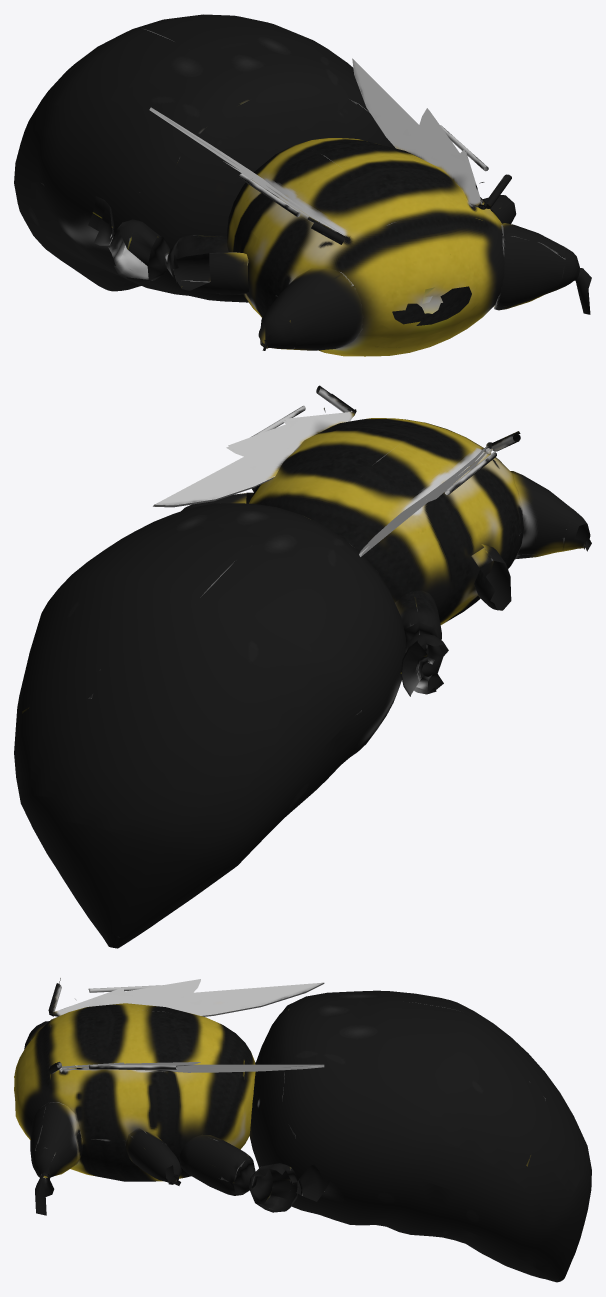
The model's file is WaspBody.fbx.
The picture shows the model from 3 angles, top to bottom: view 1: azimuth 30°, elevation 25°; view 2: azimuth 150°, elevation 25°; view 3: azimuth 270°, elevation 25°; orthographic projection. The views are drawn at different scales.
Visible parts, largest first — view 1: insect; view 2: insect; view 3: insect.
Boxes of the visible parts, left/top/right/bottom form: insect: left=14, top=14, right=591, bottom=356; insect: left=14, top=385, right=591, bottom=948; insect: left=14, top=978, right=591, bottom=1282.
Bounding box in the file's own units: 254 × 243 × 466.
